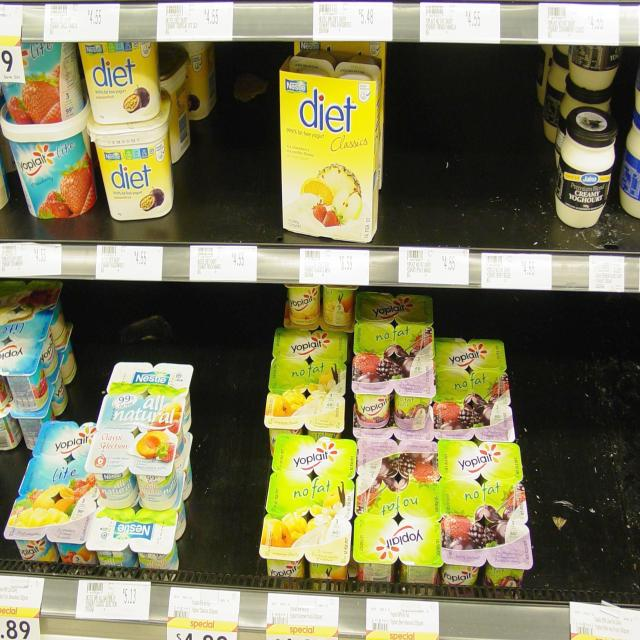empty_space: (535, 342, 640, 588), (393, 66, 545, 230), (189, 331, 264, 557), (214, 72, 275, 204)
